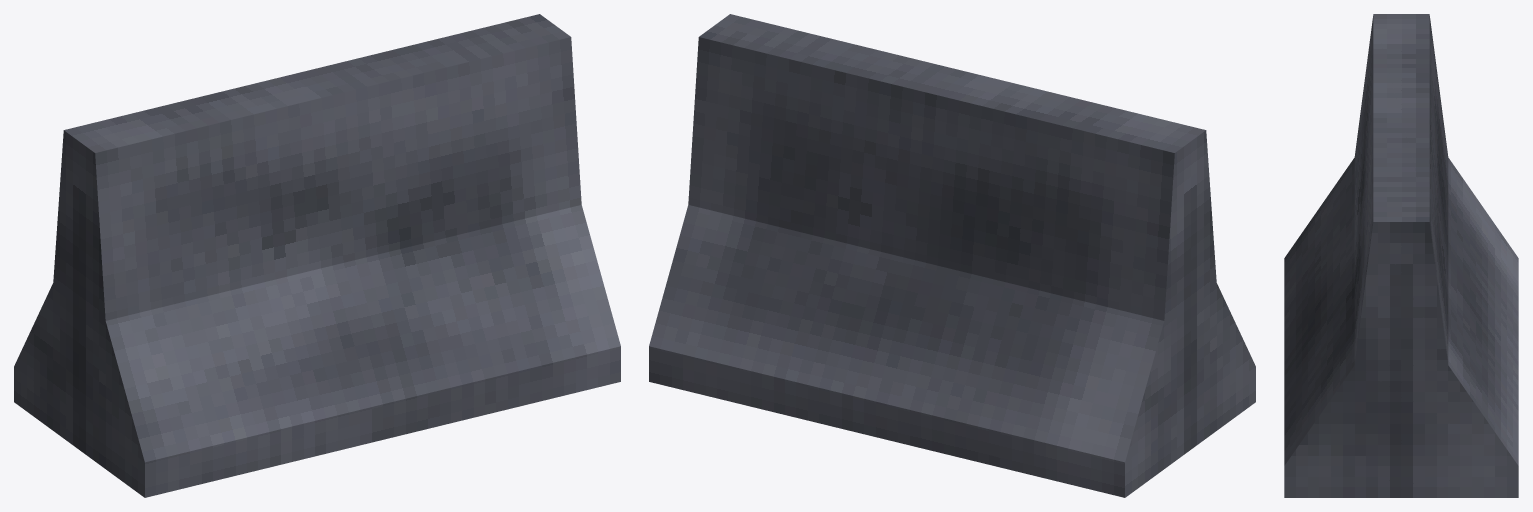
File: traffic_barrier.gltf
3 views of the same model, side by side, from view 1: azimuth 30°, elevation 25°; view 2: azimuth 150°, elevation 25°; view 3: azimuth 270°, elevation 25° (orthographic). The views are drawn at different scales.
Visible parts, largest first — view 1: cuboid; view 2: cuboid; view 3: cuboid.
Boxes of the visible parts, left/top/right/bottom form: cuboid: left=14, top=14, right=620, bottom=497; cuboid: left=649, top=14, right=1255, bottom=497; cuboid: left=1284, top=14, right=1518, bottom=497.
Bounding box in the file's own units: 1.31 × 0.8125 × 0.625.
Materials: 1 (1 with a texture image).
